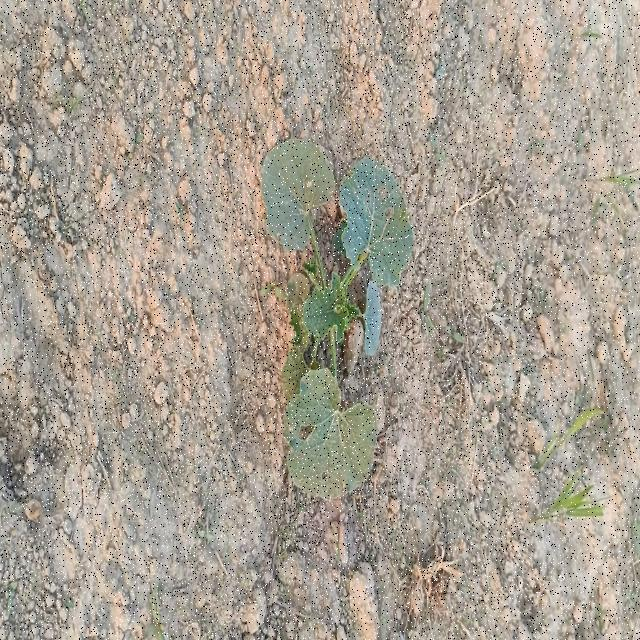plant: (261, 139, 414, 498)
